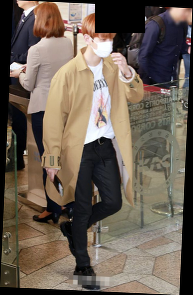with_mask: (92, 37, 114, 58)
